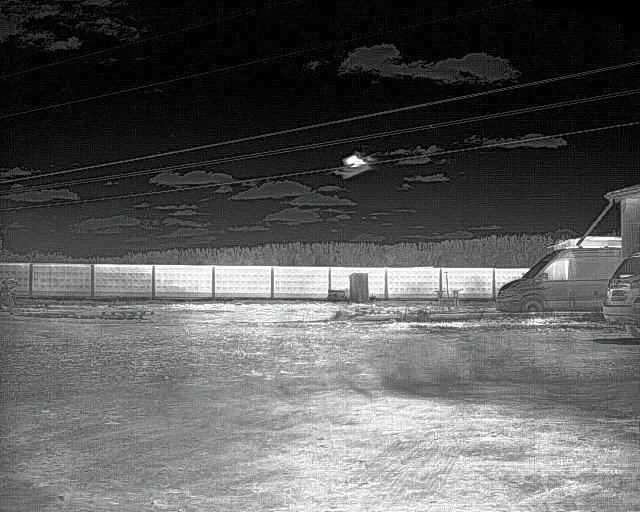drone-thermal: (330, 147, 378, 184)
